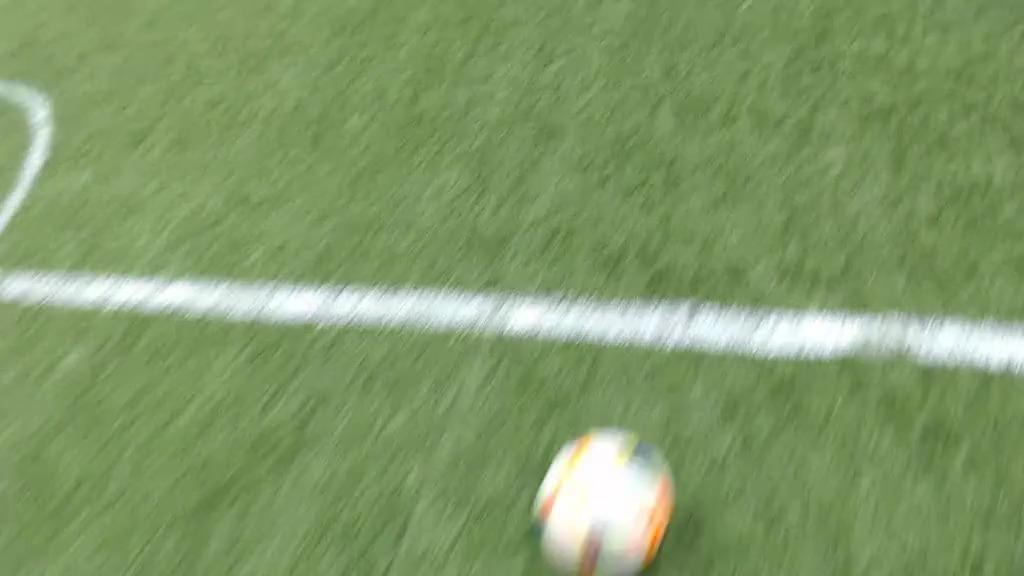ball: (534, 428, 674, 576)
